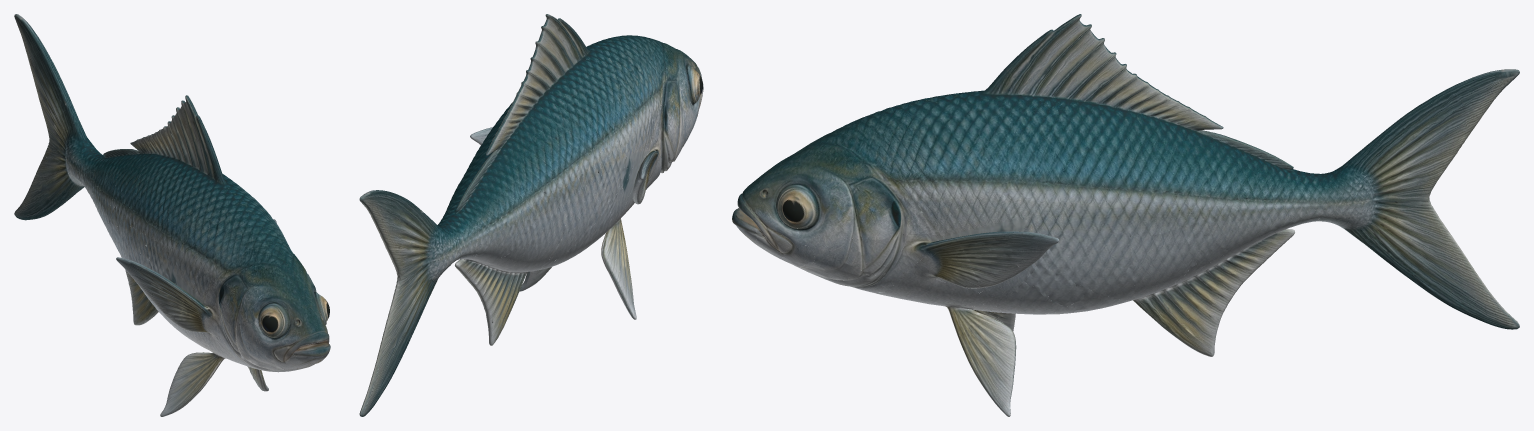
The model's file is marine.glb.
The picture shows the model from 3 angles, left to right: view 1: azimuth 30°, elevation 25°; view 2: azimuth 150°, elevation 25°; view 3: azimuth 270°, elevation 25°; orthographic projection. The views are drawn at different scales.
Visible parts, largest first — view 1: Mesh_0; view 2: Mesh_0; view 3: Mesh_0.
Boxes of the visible parts, <box> form: Mesh_0: <box>14,14,330,416</box>; Mesh_0: <box>359,14,703,416</box>; Mesh_0: <box>732,14,1519,416</box>.
Bounding box in the file's own units: 0.0289 × 0.05 × 0.0966.
1 material, 1 textured.
